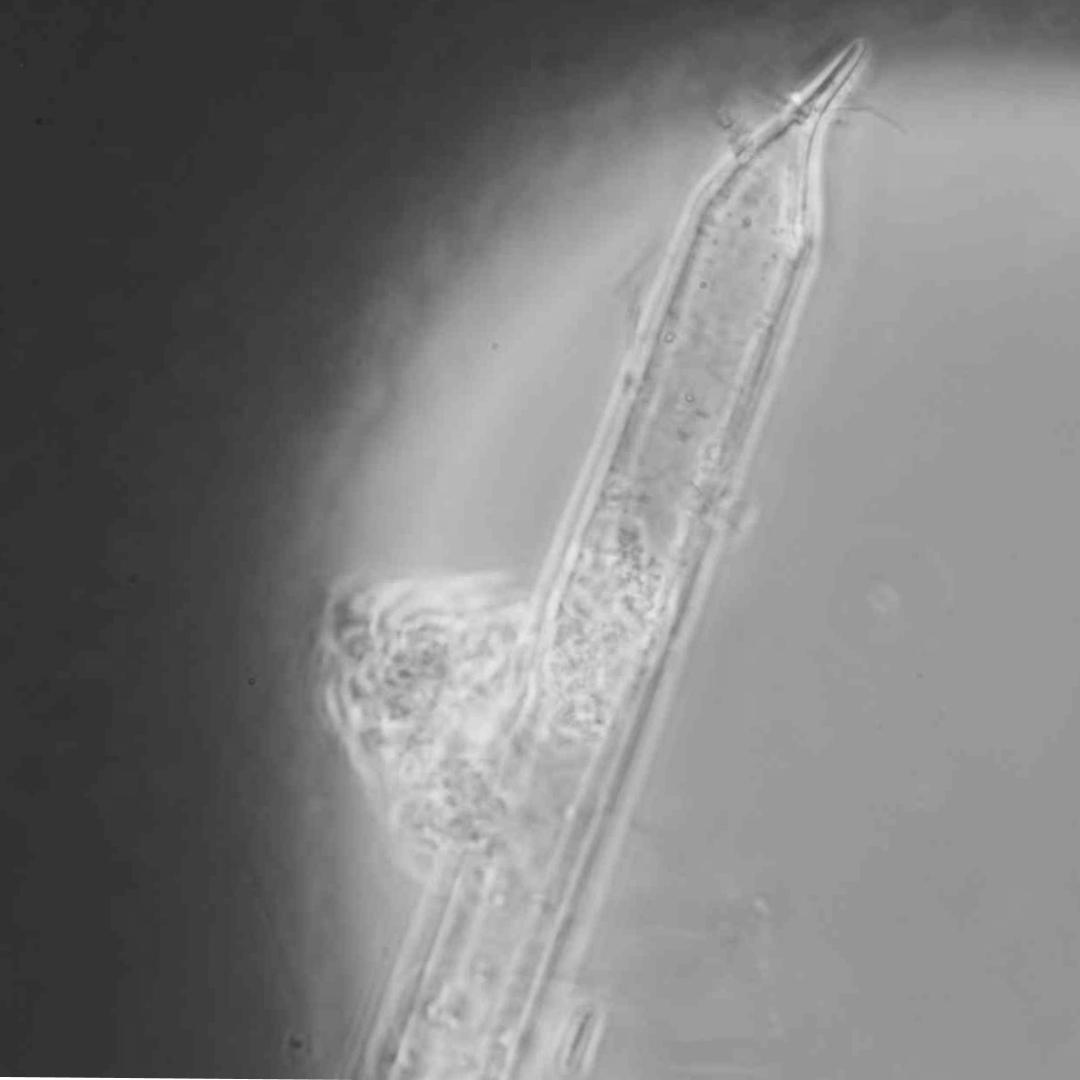proboscia_alata: (380, 42, 866, 1079)
